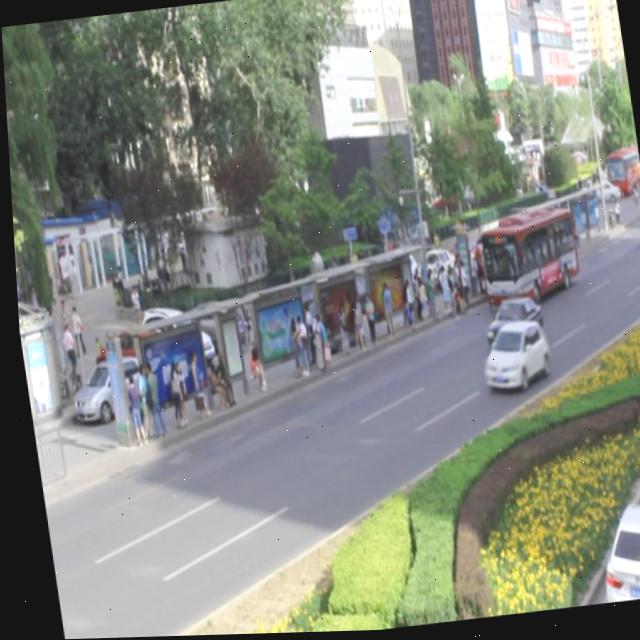car: (470, 320, 549, 396), (475, 297, 541, 355)
van: (472, 205, 580, 312)
